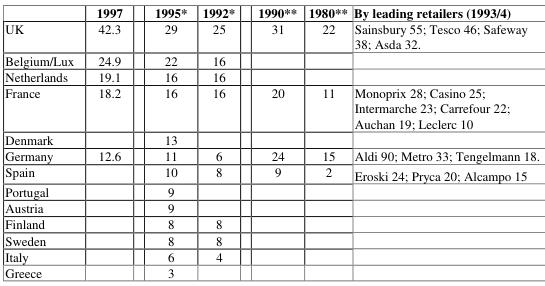table: (4, 3, 539, 280)
table column: (350, 3, 539, 280), (4, 3, 84, 280), (137, 3, 194, 280), (245, 3, 302, 280), (84, 3, 137, 280), (194, 3, 245, 280), (302, 3, 350, 280)
table column header: (4, 3, 539, 20)
table row: (4, 84, 539, 130), (4, 20, 539, 51), (4, 163, 539, 182), (4, 3, 539, 20), (4, 67, 539, 84), (4, 130, 539, 147), (4, 198, 539, 215), (4, 263, 539, 280), (4, 51, 539, 67), (4, 147, 539, 163), (4, 182, 539, 198), (4, 215, 539, 231), (4, 231, 539, 247), (4, 247, 539, 263)
